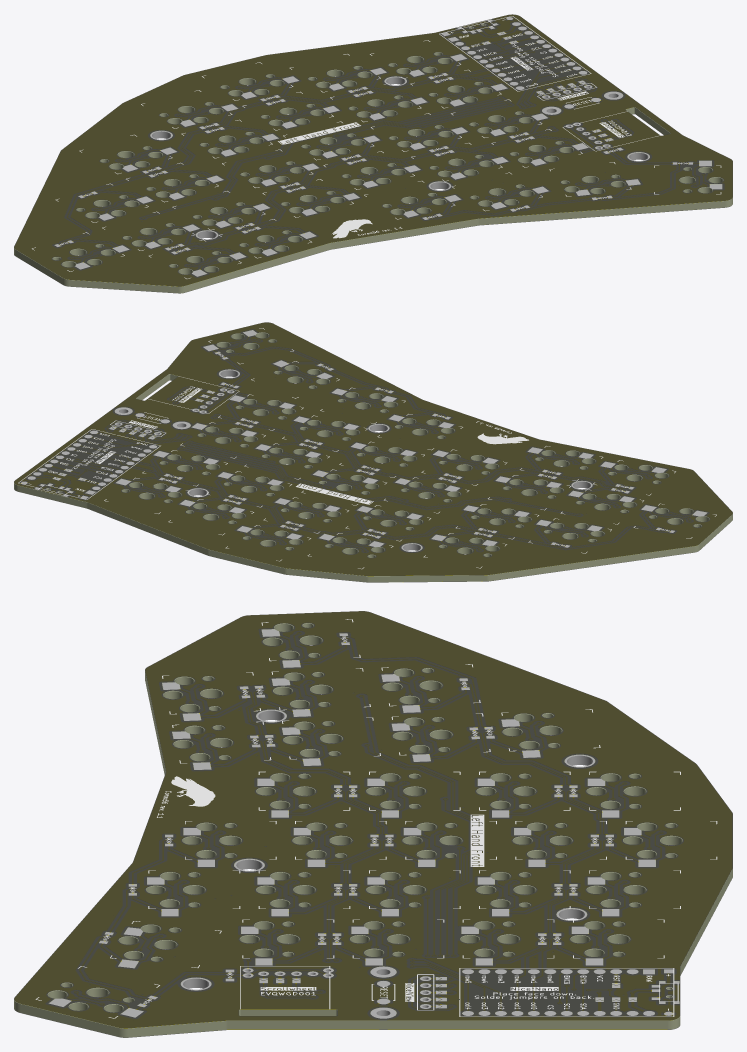
File: board.glb
3 views of the same model, one above another, from view 1: azimuth 30°, elevation 25°; view 2: azimuth 150°, elevation 25°; view 3: azimuth 270°, elevation 25° (orthographic). The views are drawn at different scales.
Visible parts, largest first — view 1: board_soldermask (×2), board_copper, board_PCB, board_pad, board_silkscreen; view 2: board_soldermask (×2), board_copper, board_PCB, board_pad, board_silkscreen; view 3: board_soldermask, board_copper, board_PCB, board_pad, board_silkscreen.
Boxes of the visible parts, x1,y1,x2,y2 form: board_soldermask (×2): [14, 14, 732, 293]; board_copper: [15, 15, 731, 286]; board_PCB: [14, 17, 732, 293]; board_pad: [54, 17, 722, 276]; board_silkscreen: [32, 16, 721, 278]; board_soldermask (×2): [14, 322, 732, 582]; board_copper: [15, 323, 731, 582]; board_PCB: [14, 330, 732, 582]; board_pad: [21, 330, 707, 551]; board_silkscreen: [18, 328, 716, 569]; board_soldermask: [14, 611, 732, 1028]; board_copper: [15, 612, 731, 1029]; board_PCB: [14, 623, 732, 1037]; board_pad: [49, 629, 679, 1018]; board_silkscreen: [35, 619, 717, 1018].
Bounding box in the file's own units: 0.1524 × 0.00166 × 0.1109.
